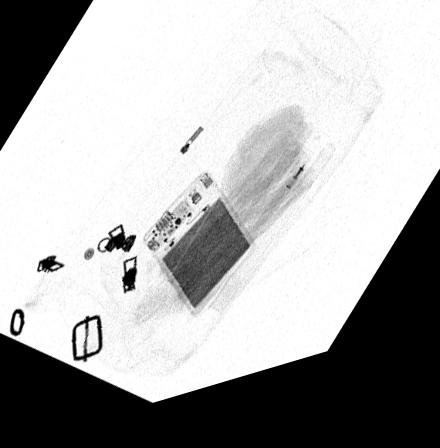Powerbank: (141, 182, 257, 327)
